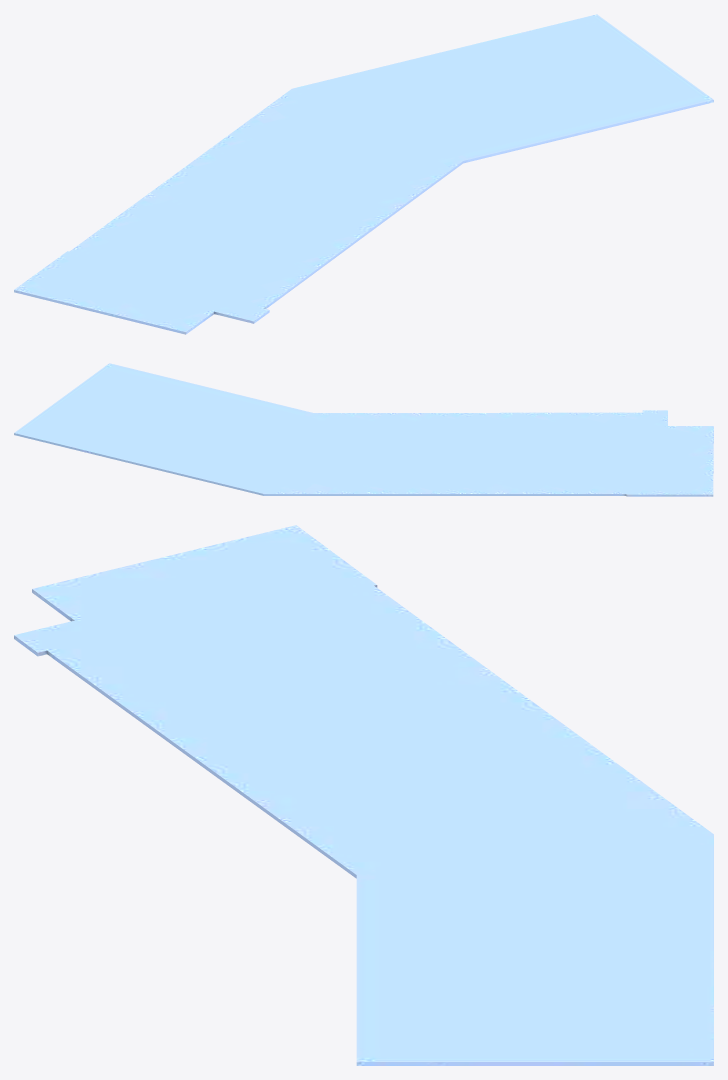
The picture shows the model from 3 angles, top to bottom: view 1: azimuth 30°, elevation 25°; view 2: azimuth 150°, elevation 25°; view 3: azimuth 270°, elevation 25°; orthographic projection. The views are drawn at different scales.
Parts seen in each view (by area): view 1: hd_4_ding_0; view 2: hd_4_ding_0; view 3: hd_4_ding_0.
Boxes of the visible parts, x1=… form: hd_4_ding_0: x1=14, y1=14, x2=713, y2=334; hd_4_ding_0: x1=14, y1=363, x2=713, y2=496; hd_4_ding_0: x1=14, y1=525, x2=713, y2=1065.
Size of the model in its own units: 7.91 by 0.0258 by 4.36.
1 material, 1 textured.
